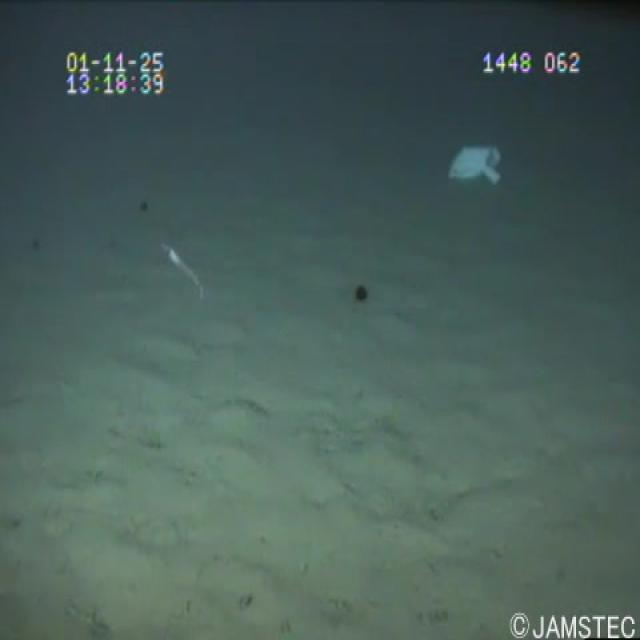plastic: (438, 138, 514, 204)
